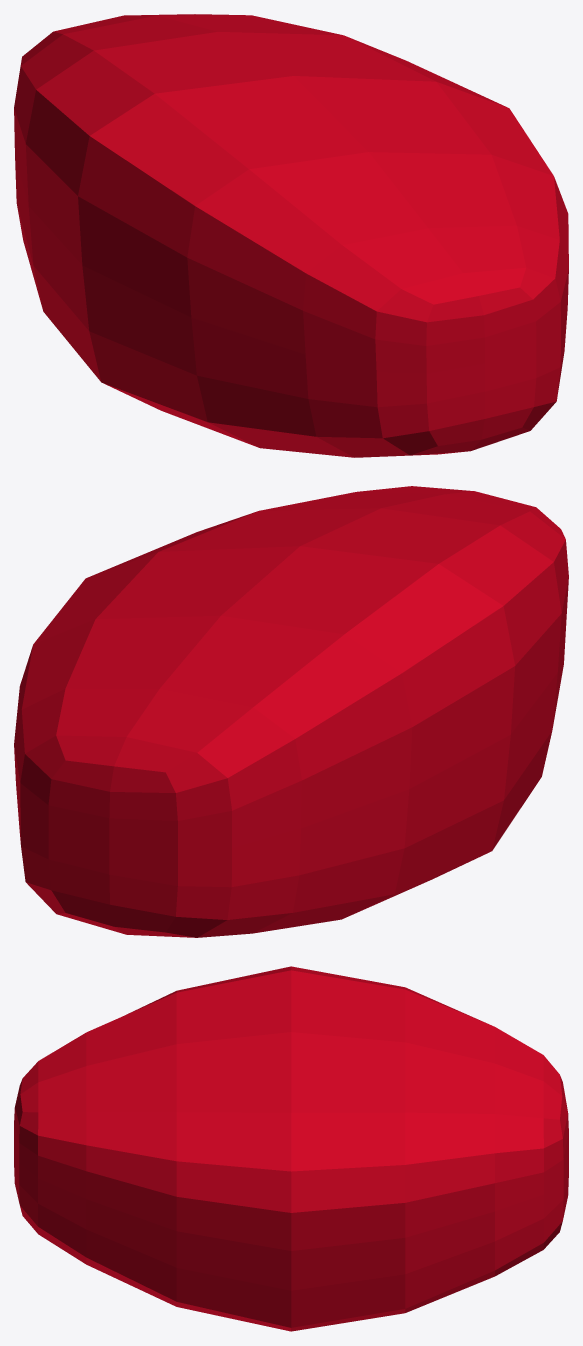
Rendered from piedras_puzzles_roja.fbx.
The picture shows the model from 3 angles, top to bottom: view 1: azimuth 30°, elevation 25°; view 2: azimuth 150°, elevation 25°; view 3: azimuth 270°, elevation 25°; orthographic projection. The views are drawn at different scales.
Parts seen in each view (by area): view 1: piedra1; view 2: piedra1; view 3: piedra1.
Boxes of the visible parts, x1,y1,x2,y2 form: piedra1: (14, 14, 568, 457); piedra1: (14, 486, 568, 937); piedra1: (14, 966, 568, 1331).
Bounding box in the file's own units: 38.99 × 29.73 × 56.98.
